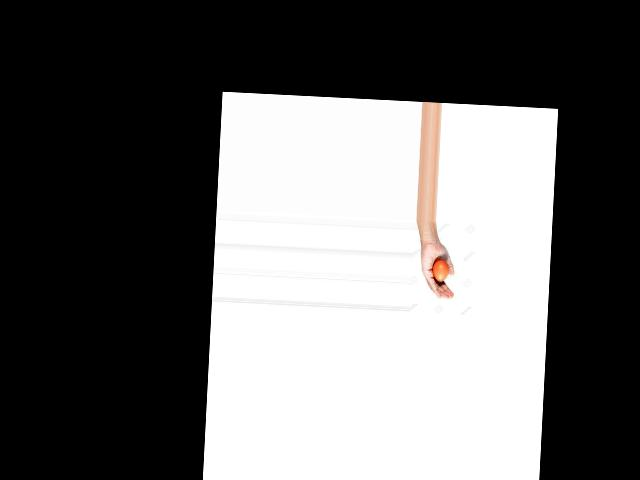egg: (432, 259, 449, 281)
